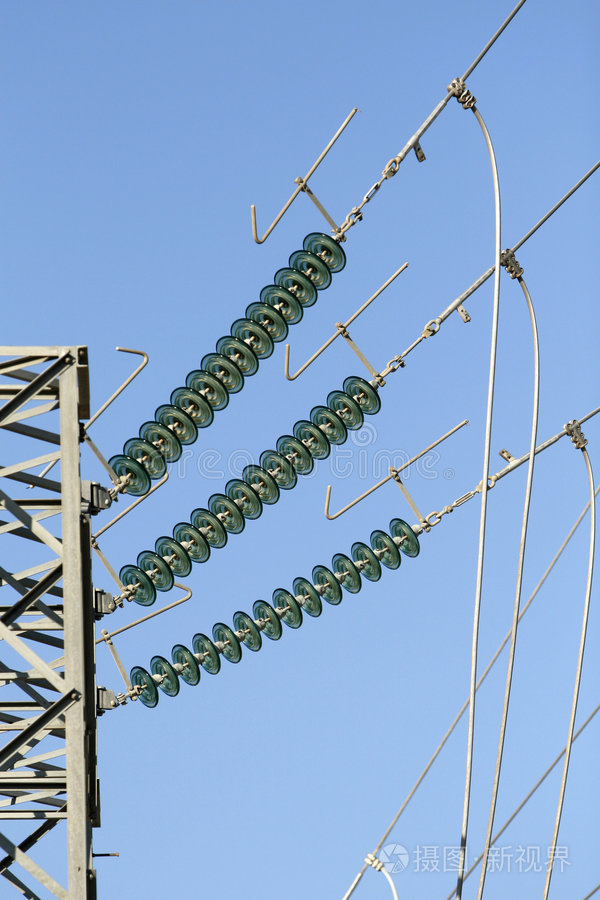insulator: (111, 228, 348, 489), (123, 375, 380, 605), (130, 513, 421, 705)
